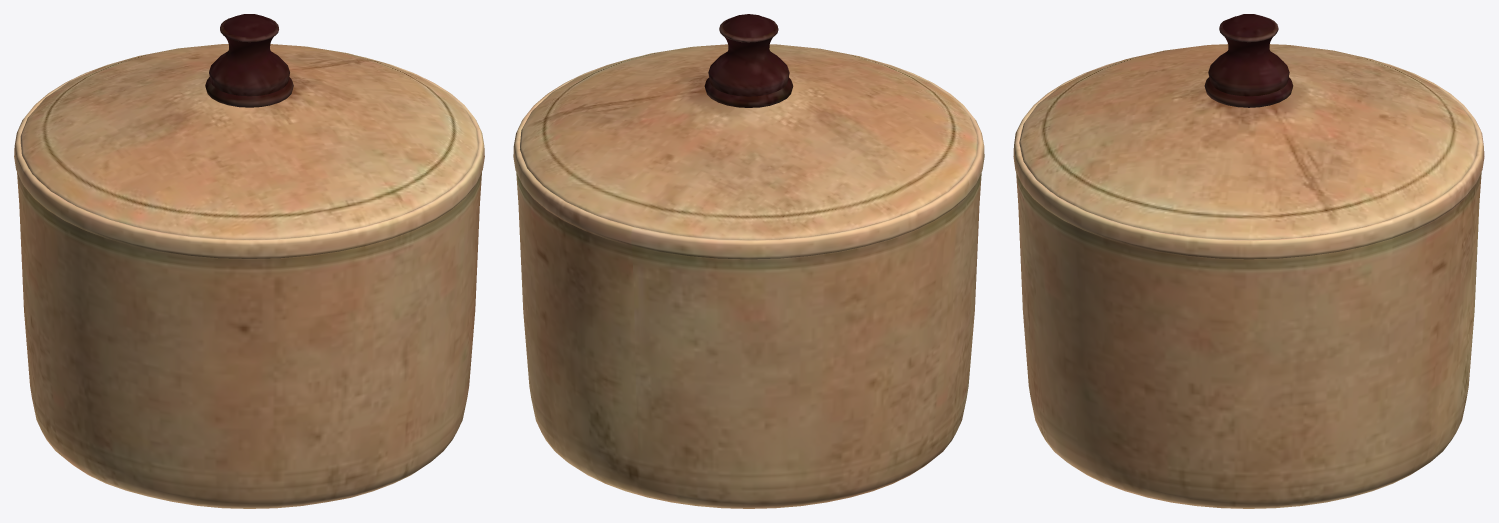
The model's file is brass_pot_01.glb.
3 views of the same model, side by side, from view 1: azimuth 30°, elevation 25°; view 2: azimuth 150°, elevation 25°; view 3: azimuth 270°, elevation 25° (orthographic).
Parts seen in each view (by area): view 1: brass_pot_01; view 2: brass_pot_01; view 3: brass_pot_01.
Part boxes in pixels (bbox=[...]): brass_pot_01: bbox=[14, 14, 484, 508]; brass_pot_01: bbox=[513, 14, 984, 508]; brass_pot_01: bbox=[1013, 14, 1484, 508].
Size of the model in its own units: 0.3019 by 0.2909 by 0.3017.
Materials: 1 (1 with a texture image).
